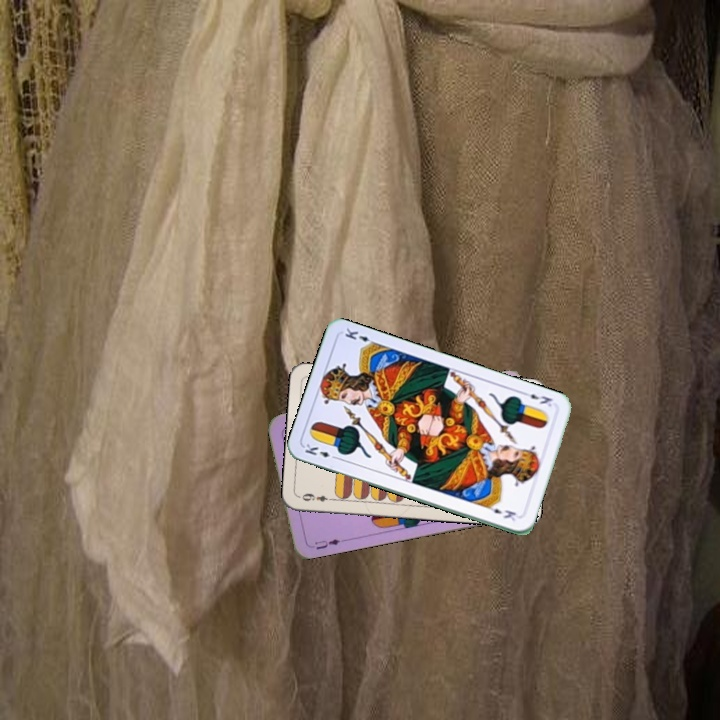E9: (298, 489, 337, 504)
EK: (519, 387, 558, 410), (301, 440, 341, 462)
EU: (305, 535, 343, 552)
